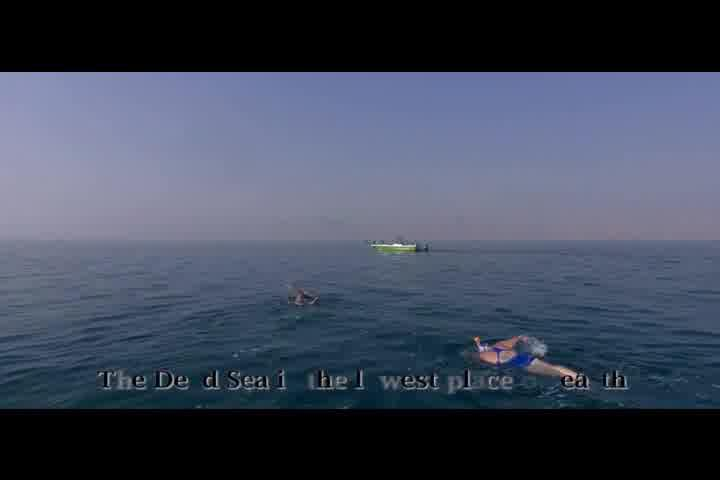swimmer: (460, 335, 596, 382)
